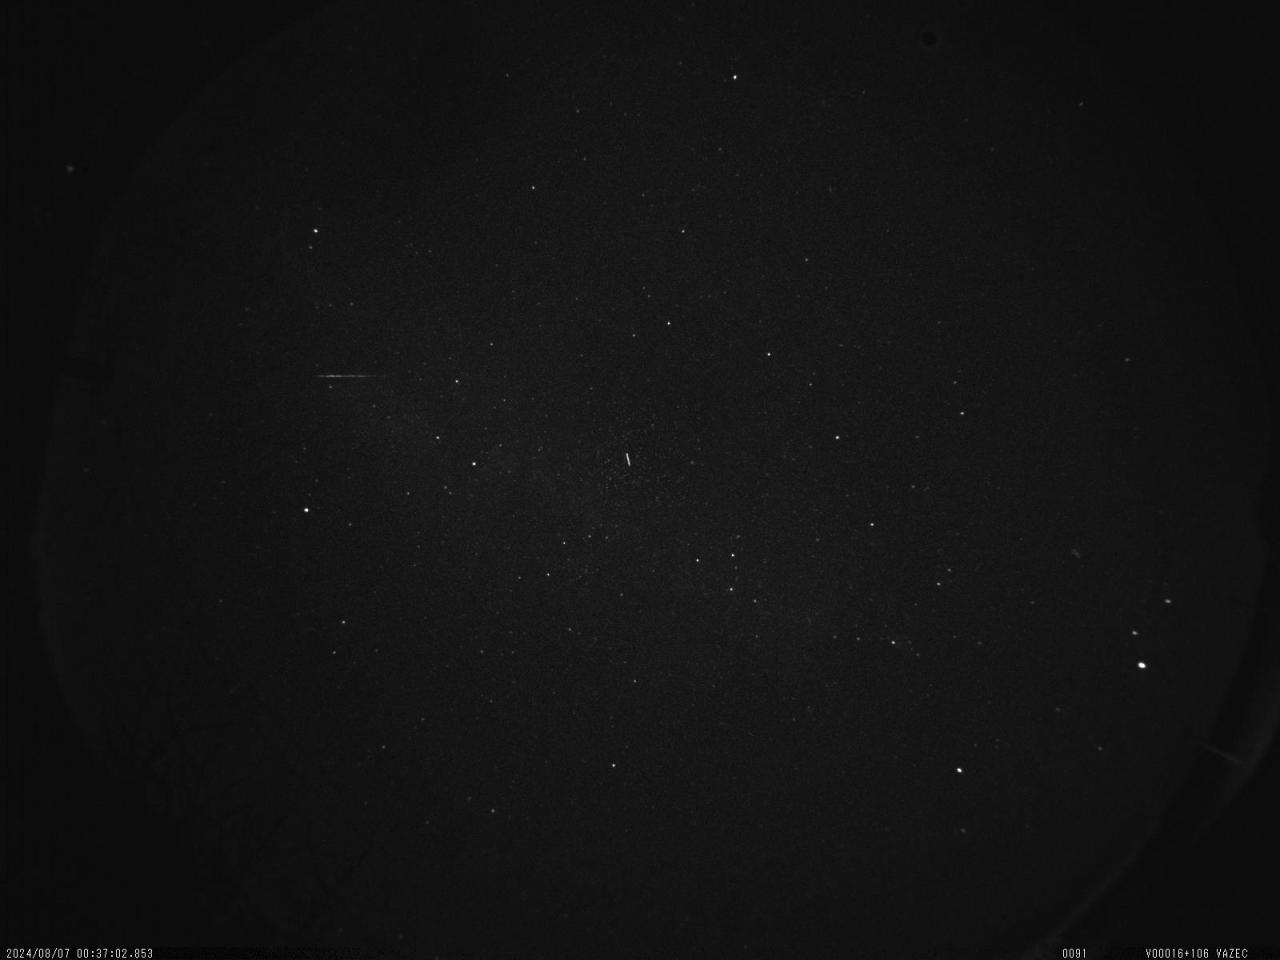Meteor: (314, 366, 392, 382)
